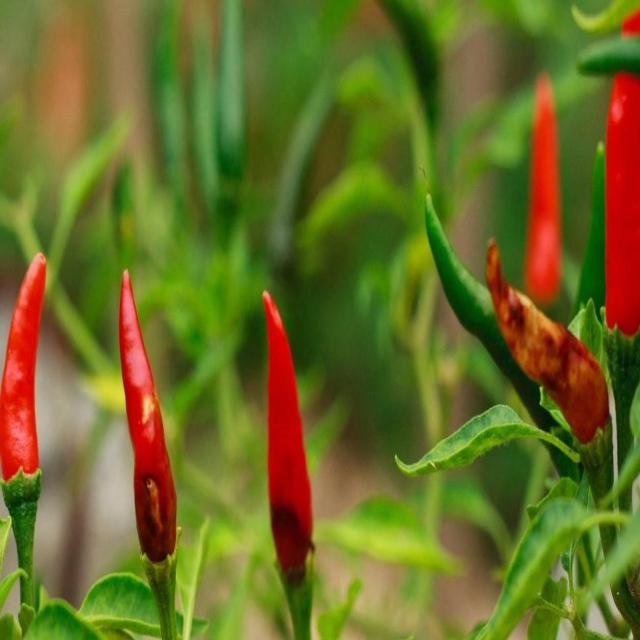Moko: (484, 206, 615, 475), (93, 398, 197, 596), (250, 480, 332, 619)
